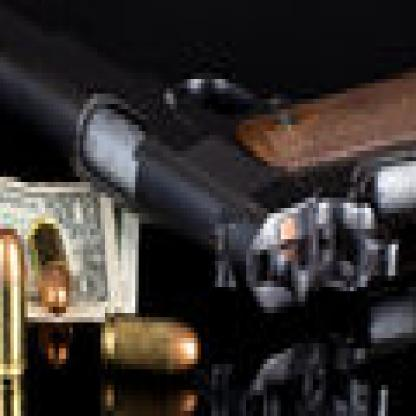gun: (0, 0, 413, 354)
